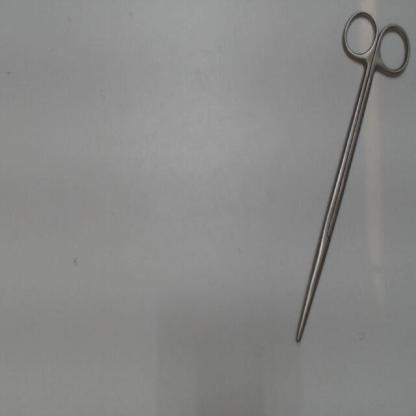9 Metzenbaum Scissors: (291, 2, 414, 348)
